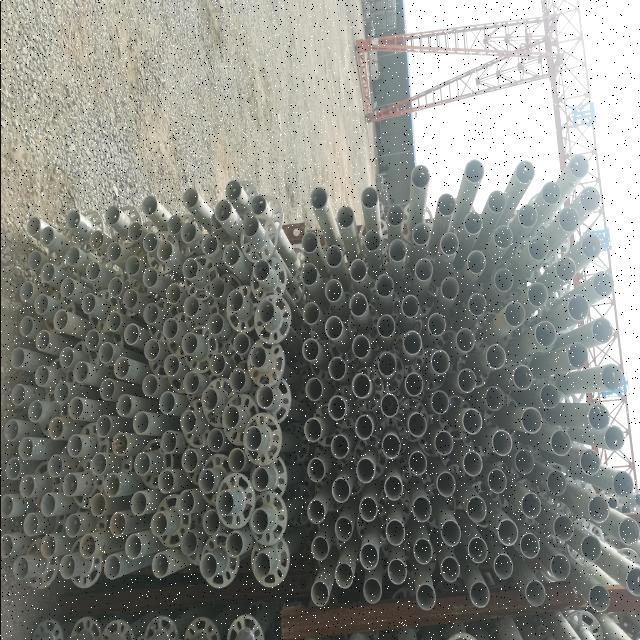pipe: (564, 339, 588, 372), (598, 362, 624, 392), (482, 342, 508, 372), (616, 516, 640, 548), (586, 401, 609, 433), (576, 448, 600, 478), (548, 428, 572, 458), (586, 583, 610, 613), (526, 232, 548, 264), (588, 315, 612, 344), (519, 405, 541, 436), (525, 280, 549, 308), (566, 292, 588, 322), (554, 254, 576, 284), (490, 428, 512, 458), (587, 493, 609, 523), (552, 514, 574, 544), (520, 490, 542, 520), (468, 580, 490, 610), (465, 494, 487, 524), (416, 581, 438, 611), (384, 518, 406, 548), (501, 301, 527, 326), (532, 321, 556, 348), (592, 269, 614, 298), (612, 469, 634, 498), (557, 204, 579, 233), (544, 469, 566, 498), (461, 449, 483, 478), (440, 519, 462, 548), (482, 384, 504, 413), (497, 516, 518, 546), (357, 542, 378, 572), (578, 535, 602, 561), (567, 153, 589, 181), (512, 362, 534, 390), (550, 554, 572, 582), (524, 579, 546, 607), (518, 532, 540, 560), (486, 466, 508, 494), (460, 408, 482, 436), (491, 224, 513, 252), (404, 411, 426, 439), (411, 496, 433, 524), (300, 416, 322, 444), (376, 350, 396, 380), (201, 507, 221, 537), (492, 268, 515, 294), (578, 186, 600, 213), (538, 383, 560, 410), (513, 448, 534, 476), (492, 552, 513, 580), (128, 490, 149, 518), (330, 475, 350, 504), (224, 529, 244, 558), (602, 426, 624, 452), (466, 536, 488, 562), (486, 190, 508, 216), (462, 210, 484, 236), (463, 158, 485, 184), (406, 449, 428, 475), (150, 551, 169, 581), (580, 233, 601, 260), (540, 178, 560, 206), (454, 326, 474, 354), (436, 193, 456, 221), (430, 348, 450, 376), (380, 432, 400, 460), (328, 433, 348, 461), (355, 457, 375, 485), (412, 538, 432, 566), (386, 558, 406, 586), (358, 496, 378, 524), (333, 562, 353, 590), (310, 580, 330, 608), (248, 508, 268, 536), (17, 472, 37, 500), (455, 367, 477, 392), (409, 164, 430, 190), (436, 471, 456, 498), (440, 556, 460, 583), (252, 550, 271, 578), (302, 378, 324, 402), (109, 509, 127, 538), (434, 430, 454, 456), (429, 390, 449, 416), (466, 291, 486, 317), (438, 231, 458, 257), (439, 275, 459, 301), (378, 393, 398, 419), (359, 185, 379, 211), (335, 203, 355, 229), (323, 314, 343, 340), (350, 334, 370, 360), (350, 372, 370, 398), (354, 415, 374, 441), (326, 394, 346, 420), (305, 457, 325, 483), (362, 578, 382, 604), (305, 498, 325, 524), (309, 534, 329, 560), (198, 386, 218, 412), (198, 552, 217, 579), (516, 204, 537, 228), (625, 564, 639, 600), (465, 250, 486, 274), (374, 272, 392, 300), (349, 291, 367, 319), (156, 467, 174, 495), (102, 553, 120, 581), (402, 331, 422, 356), (382, 476, 402, 501), (254, 384, 274, 409), (250, 258, 270, 283), (240, 212, 259, 238), (157, 390, 176, 416), (404, 372, 422, 399), (133, 450, 151, 477), (102, 472, 120, 499), (514, 160, 535, 183), (426, 312, 446, 336), (347, 258, 367, 282), (308, 186, 328, 210), (298, 264, 318, 288), (322, 278, 342, 302), (216, 489, 233, 517), (300, 337, 319, 362), (411, 222, 429, 248), (401, 293, 419, 319), (386, 202, 404, 228), (362, 228, 380, 254), (326, 242, 344, 268), (301, 300, 319, 326), (328, 356, 346, 382), (250, 466, 268, 492), (244, 425, 262, 451), (256, 298, 274, 324), (179, 408, 197, 434), (140, 372, 158, 398), (97, 376, 115, 402), (110, 432, 128, 458), (124, 534, 142, 560), (78, 534, 96, 560), (58, 554, 76, 580), (63, 512, 81, 538), (88, 492, 105, 519), (60, 472, 77, 499), (413, 258, 432, 282), (376, 314, 395, 338), (333, 517, 352, 541), (160, 429, 178, 454), (131, 411, 149, 436), (94, 414, 112, 439), (228, 447, 244, 475), (206, 425, 222, 453), (228, 366, 245, 392), (206, 311, 223, 337), (387, 240, 407, 262), (230, 332, 250, 354), (300, 230, 318, 254), (213, 198, 231, 222), (222, 242, 240, 266), (200, 234, 218, 258), (182, 370, 200, 394), (180, 332, 198, 356), (162, 353, 180, 377), (33, 328, 51, 352), (51, 380, 69, 404), (149, 512, 167, 536), (89, 452, 107, 476), (11, 556, 29, 580), (46, 453, 63, 478), (222, 403, 238, 429), (105, 308, 121, 334), (8, 344, 24, 370), (67, 394, 83, 420), (46, 416, 62, 442), (40, 534, 56, 560), (39, 492, 55, 518), (4, 456, 20, 482), (22, 512, 38, 538), (178, 222, 196, 245), (142, 302, 160, 325), (226, 290, 243, 314), (208, 276, 225, 300), (143, 338, 160, 362), (122, 322, 139, 346), (113, 355, 129, 380), (32, 363, 48, 388), (114, 392, 130, 417), (10, 382, 26, 407), (17, 436, 33, 461), (2, 418, 18, 443), (223, 178, 241, 200), (156, 240, 174, 262), (122, 254, 140, 276), (161, 316, 178, 339), (105, 240, 122, 263), (17, 280, 34, 303), (27, 398, 42, 424), (181, 257, 197, 281), (182, 295, 198, 319), (164, 282, 180, 306), (59, 275, 75, 299), (52, 308, 68, 332), (32, 292, 48, 316), (72, 360, 88, 384), (58, 345, 74, 369), (66, 433, 82, 457), (208, 353, 225, 375), (250, 346, 266, 369), (64, 245, 80, 268), (0, 494, 14, 520), (182, 187, 198, 209), (166, 214, 182, 236), (142, 231, 158, 253), (127, 221, 143, 243), (142, 266, 158, 288), (26, 249, 42, 271), (84, 260, 100, 282), (106, 276, 122, 298), (121, 288, 137, 310), (98, 342, 114, 364), (250, 192, 265, 215), (142, 196, 158, 217), (18, 314, 32, 338), (83, 329, 99, 350), (104, 205, 120, 225), (88, 229, 104, 249), (39, 262, 54, 283), (65, 208, 79, 230), (80, 292, 94, 314), (39, 226, 53, 247), (1, 534, 12, 560), (26, 218, 40, 236)
